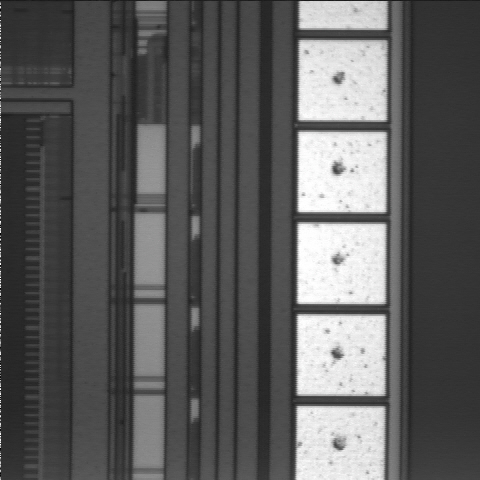pad: (297, 314, 385, 396), (299, 40, 387, 121), (298, 223, 386, 304), (298, 132, 386, 212)
